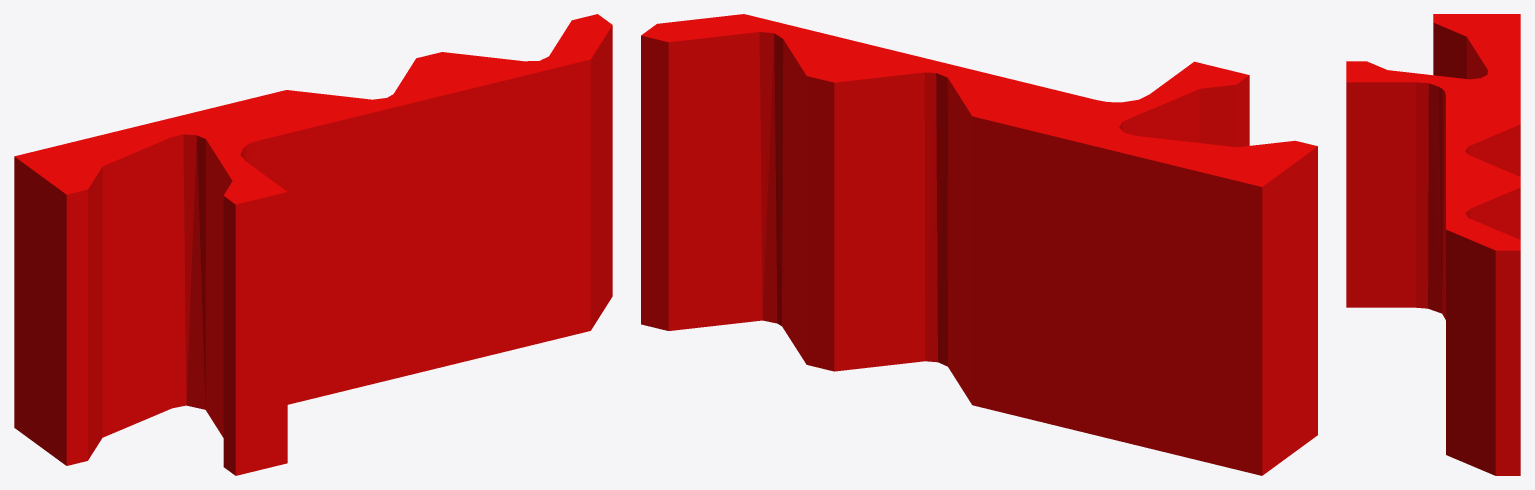
File: warec-RL_HOOK-visual-0.dae
3 views of the same model, side by side, from view 1: azimuth 30°, elevation 25°; view 2: azimuth 150°, elevation 25°; view 3: azimuth 270°, elevation 25° (orthographic). The views are drawn at different scales.
Parts seen in each view (by area): view 1: root; view 2: root; view 3: root.
Boxes of the visible parts, left/top/right/bottom form: root: left=14, top=14, right=612, bottom=475; root: left=641, top=14, right=1317, bottom=475; root: left=1346, top=14, right=1520, bottom=475.
Size of the model in its own units: 0.225 by 0.1 by 0.07.
